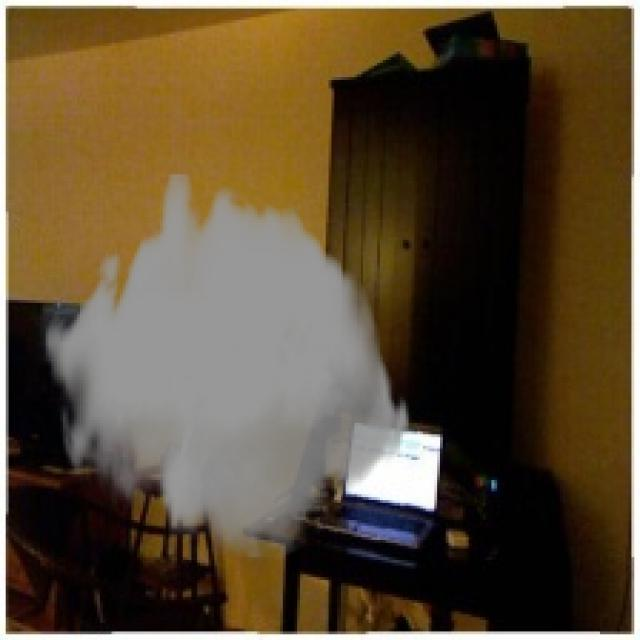Smoke: (42, 174, 412, 557)
